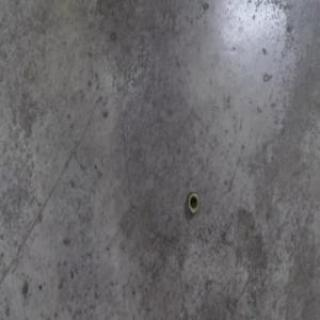Nuttrack_idkeyframe: (187, 190, 200, 216)
